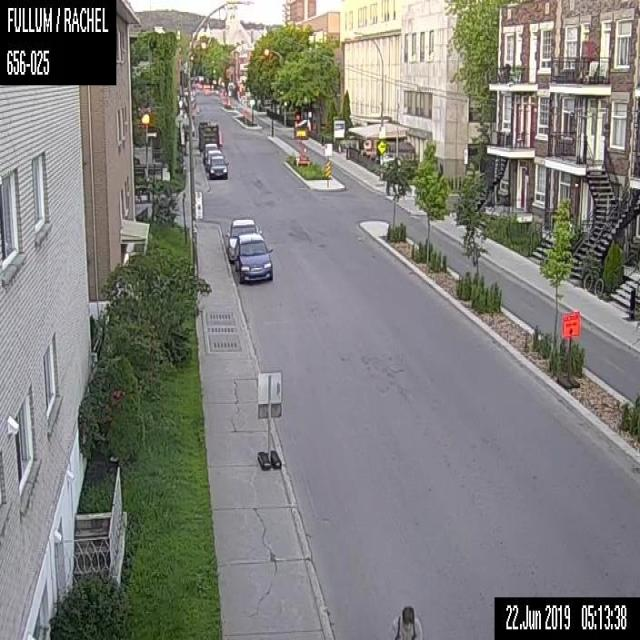construction: (292, 126, 309, 166), (561, 310, 580, 336), (218, 131, 221, 144)
pedestrian: (389, 601, 423, 639)
vehicle: (233, 231, 273, 283), (225, 218, 261, 260), (204, 149, 225, 171), (208, 155, 228, 178), (202, 142, 218, 164)
